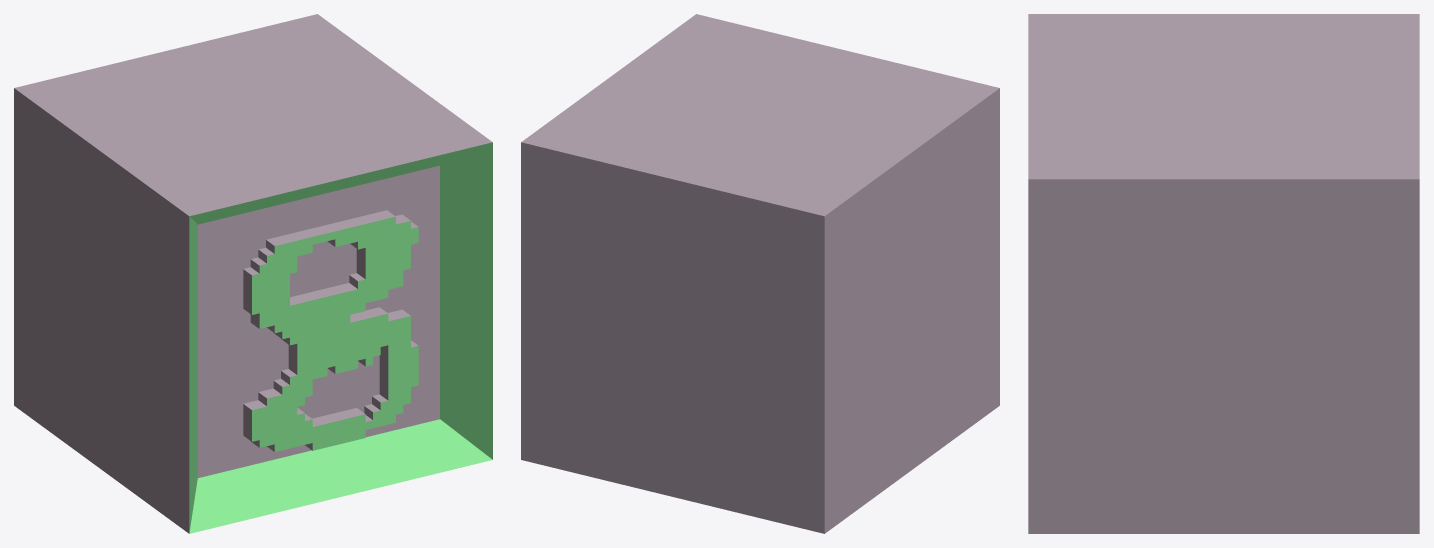
File: Block8.fbx
3 views of the same model, side by side, from view 1: azimuth 30°, elevation 25°; view 2: azimuth 150°, elevation 25°; view 3: azimuth 270°, elevation 25° (orthographic). The views are drawn at different scales.
Parts seen in each view (by area): view 1: Cube; view 2: Cube; view 3: Cube.
Boxes of the visible parts, x1,y1,x2,y2 form: Cube: (14, 14, 492, 533); Cube: (521, 14, 999, 533); Cube: (1028, 14, 1419, 533).
Size of the model in its own units: 2000 by 2000 by 2000.
